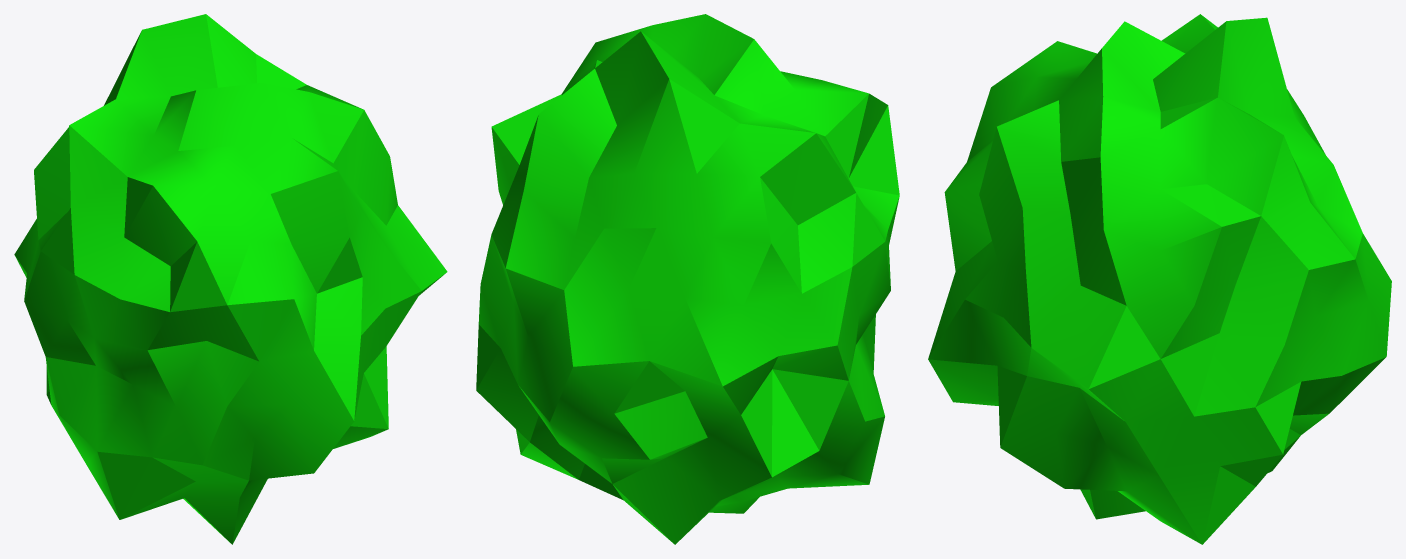
Rendered from Leafs.fbx.
The picture shows the model from 3 angles, left to right: view 1: azimuth 30°, elevation 25°; view 2: azimuth 150°, elevation 25°; view 3: azimuth 270°, elevation 25°; orthographic projection. The views are drawn at different scales.
Parts seen in each view (by area): view 1: Icosphere; view 2: Icosphere; view 3: Icosphere.
Boxes of the visible parts, x1,y1,x2,y2 form: Icosphere: (14,14,447,544); Icosphere: (476,14,899,544); Icosphere: (928,14,1391,544).
Size of the model in its own units: 196 by 250 by 204.
